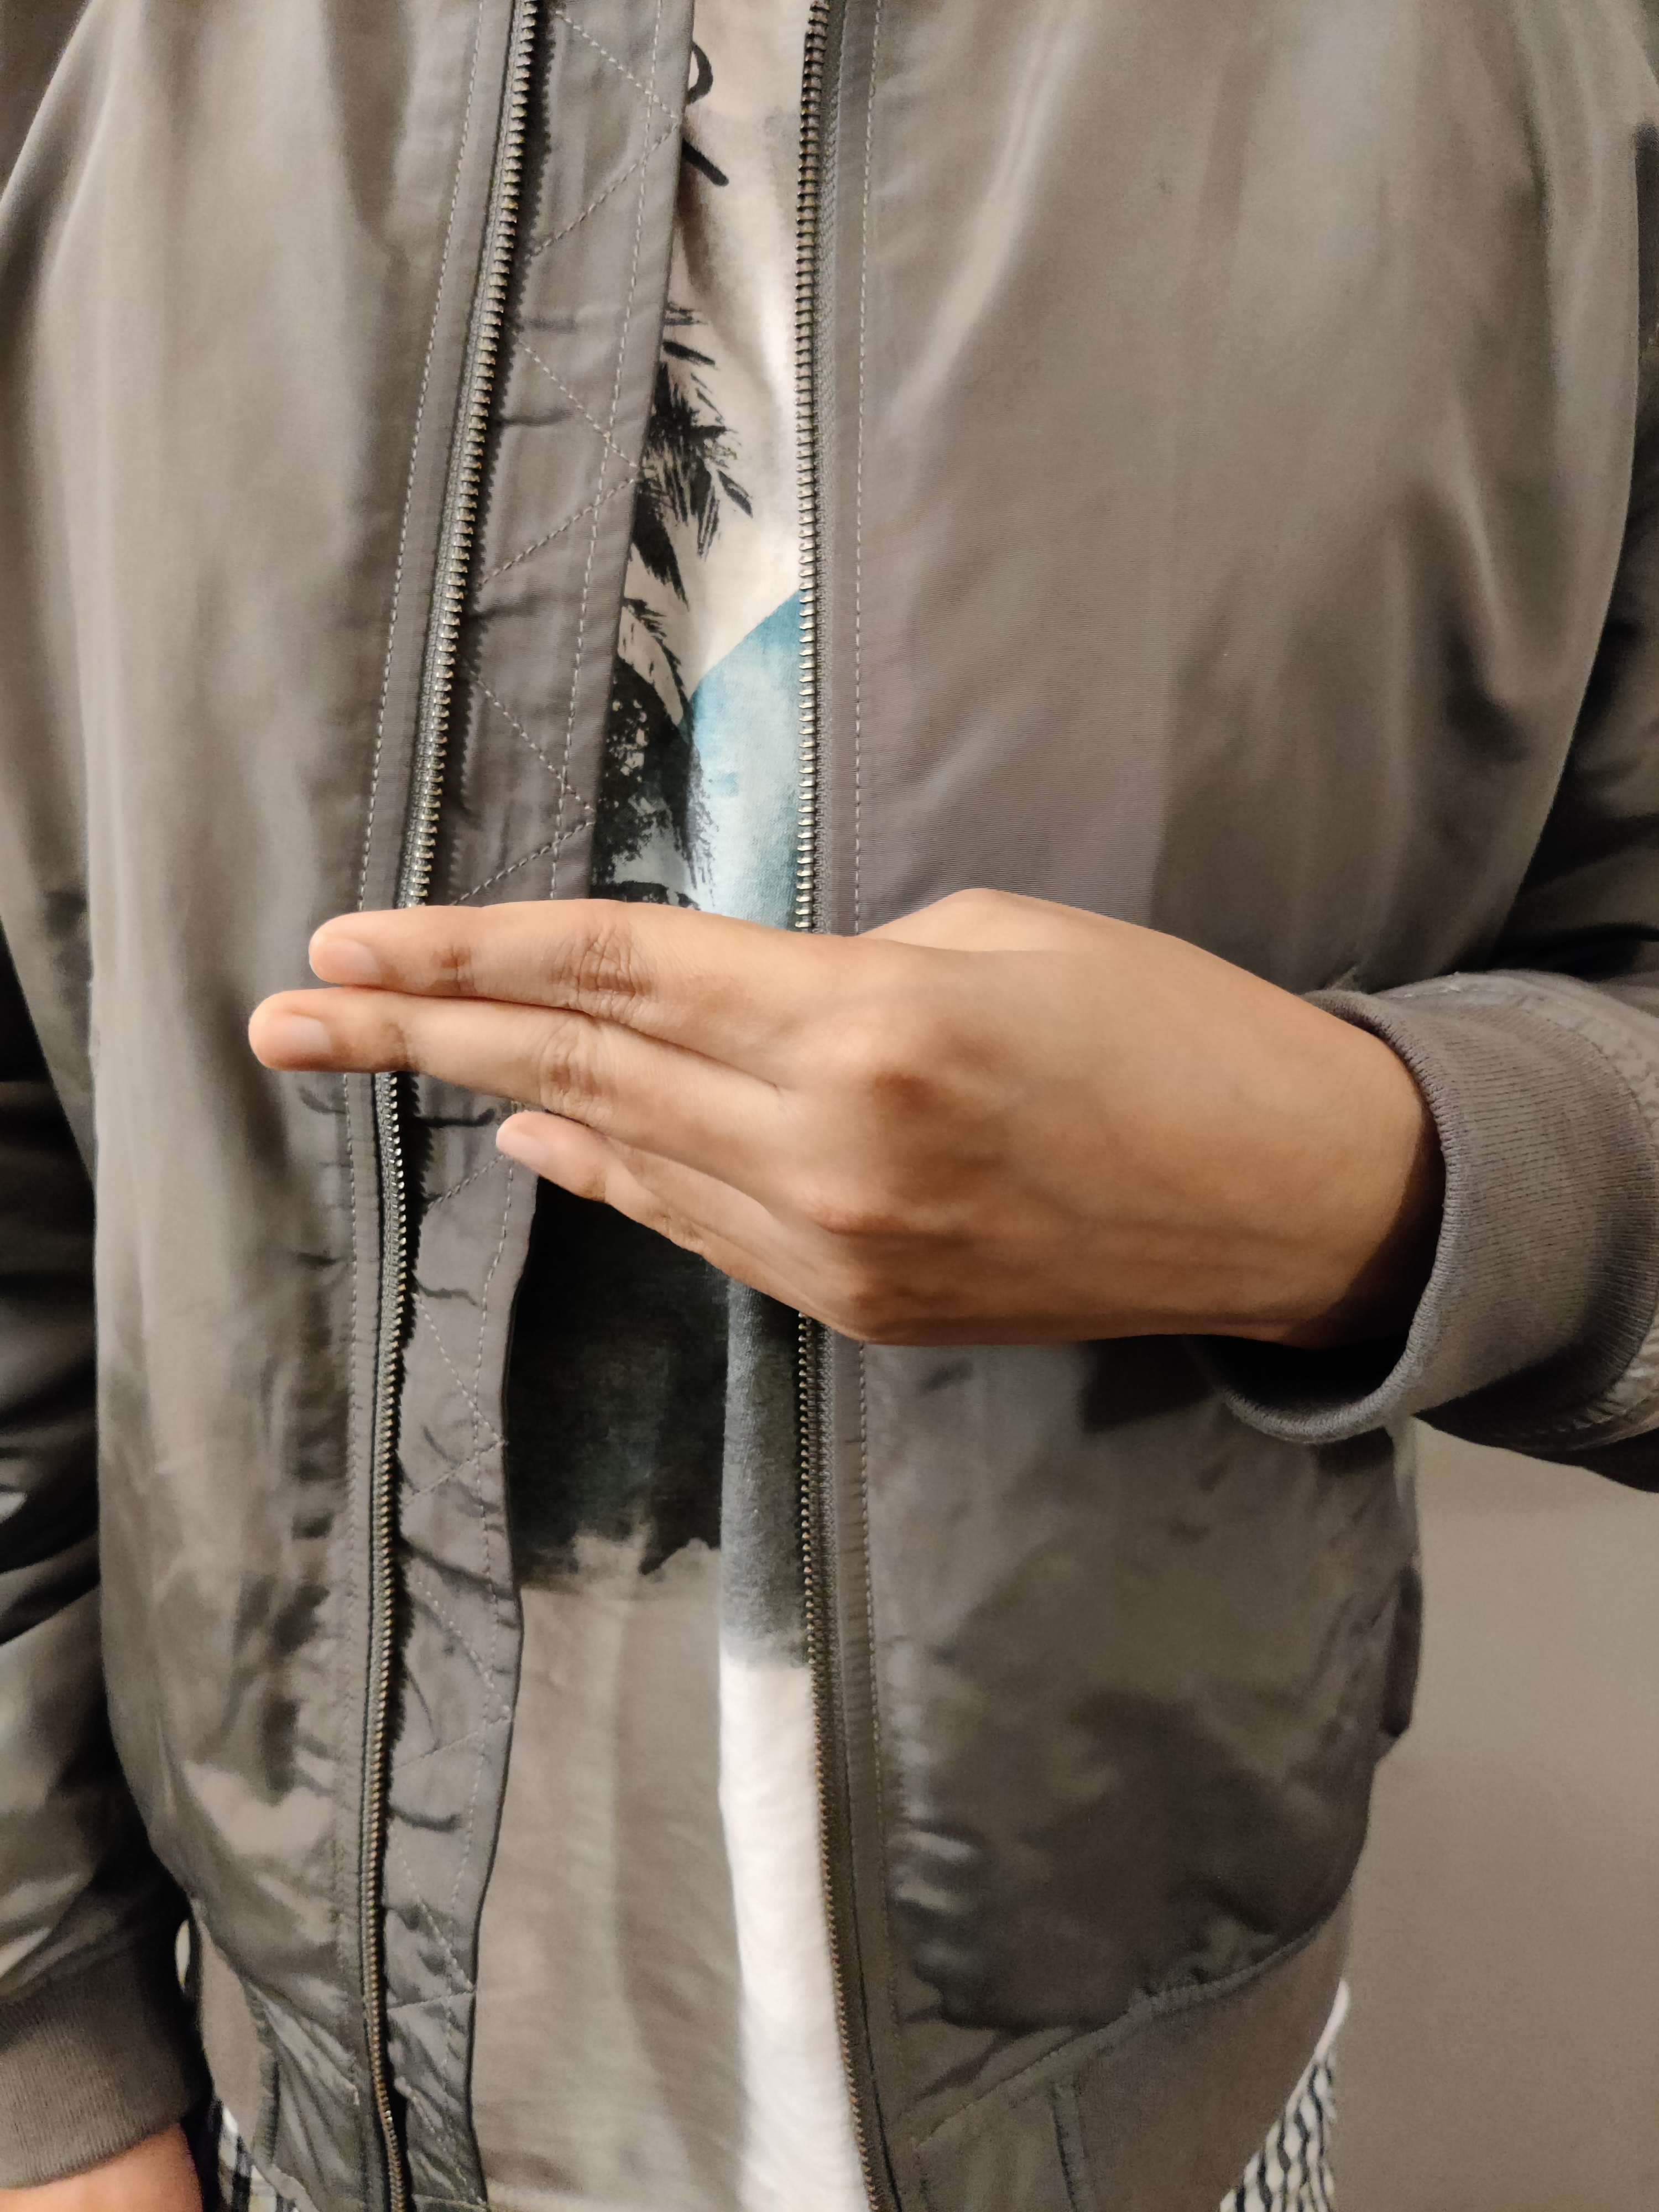right: (73, 655, 1561, 1665)
